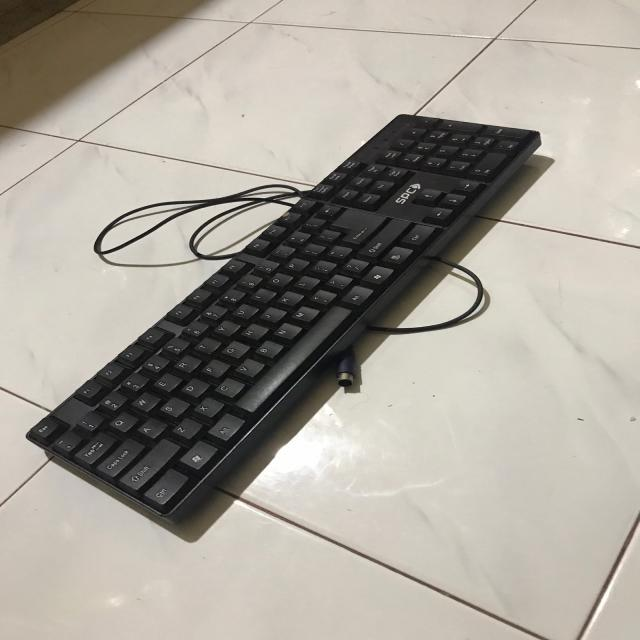-mouse-: (22, 110, 543, 515)
